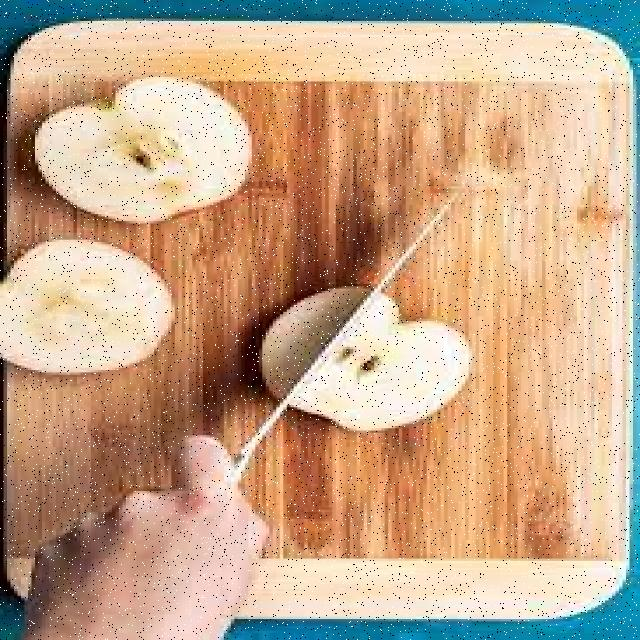Apple: (33, 77, 252, 223), (255, 285, 472, 432), (0, 239, 175, 371)
